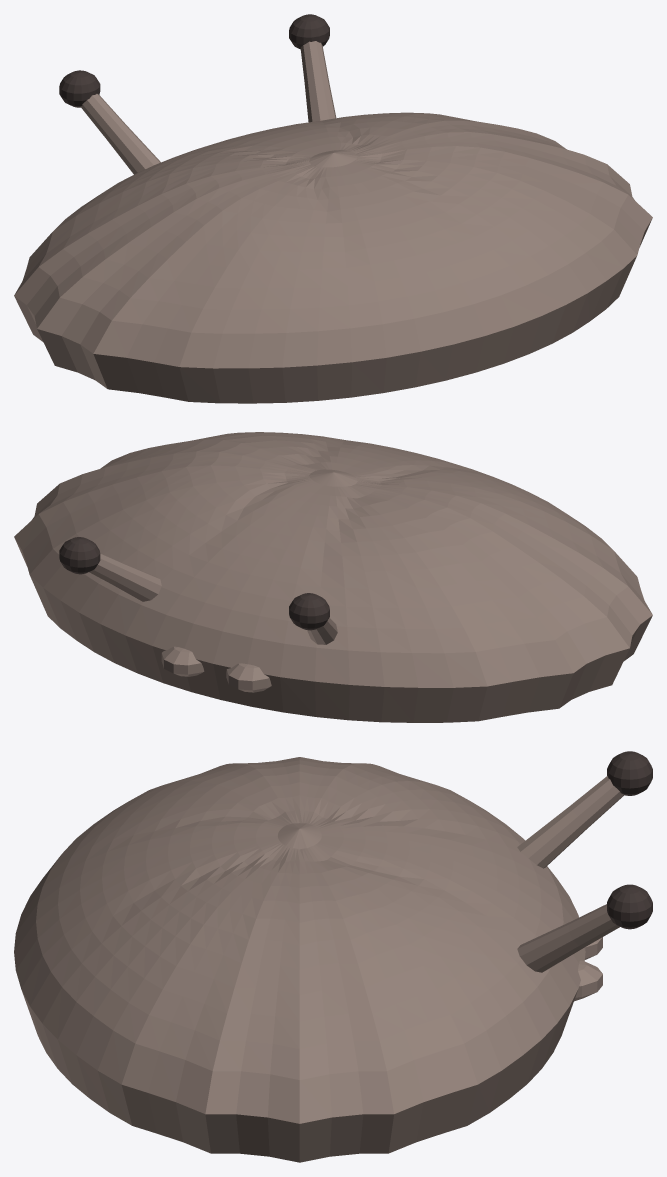
The model's file is crab_body_original_01.glb.
3 views of the same model, one above another, from view 1: azimuth 30°, elevation 25°; view 2: azimuth 150°, elevation 25°; view 3: azimuth 270°, elevation 25° (orthographic). The views are drawn at different scales.
Visible parts, largest first — view 1: Carapace, EyestalkL, EyestalkR, EyeL, EyeR; view 2: Carapace, EyestalkR, EyeR, EyeL, MouthpartL, MouthpartR, EyestalkL; view 3: Carapace, EyestalkL, EyestalkR, EyeR, EyeL, MouthpartR.
Part boxes in pixels (x1,y1,x2,y2): Carapace: (14, 112, 652, 403); EyestalkL: (80, 94, 160, 174); EyestalkR: (300, 41, 336, 122); EyeL: (59, 70, 100, 107); EyeR: (289, 14, 329, 49); Carapace: (14, 432, 652, 722); EyestalkR: (89, 553, 161, 601); EyeR: (59, 537, 100, 574); EyeL: (289, 593, 329, 630); MouthpartL: (226, 663, 271, 692); MouthpartR: (161, 646, 204, 676); EyestalkL: (307, 618, 337, 644); Carapace: (14, 757, 585, 1162); EyestalkL: (517, 776, 624, 868); EyestalkR: (517, 904, 619, 972); EyeR: (607, 884, 652, 929); EyeL: (607, 751, 652, 795); MouthpartR: (574, 960, 602, 1001).
Bounding box in the file's own units: 0.826 × 0.225 × 0.6484.
